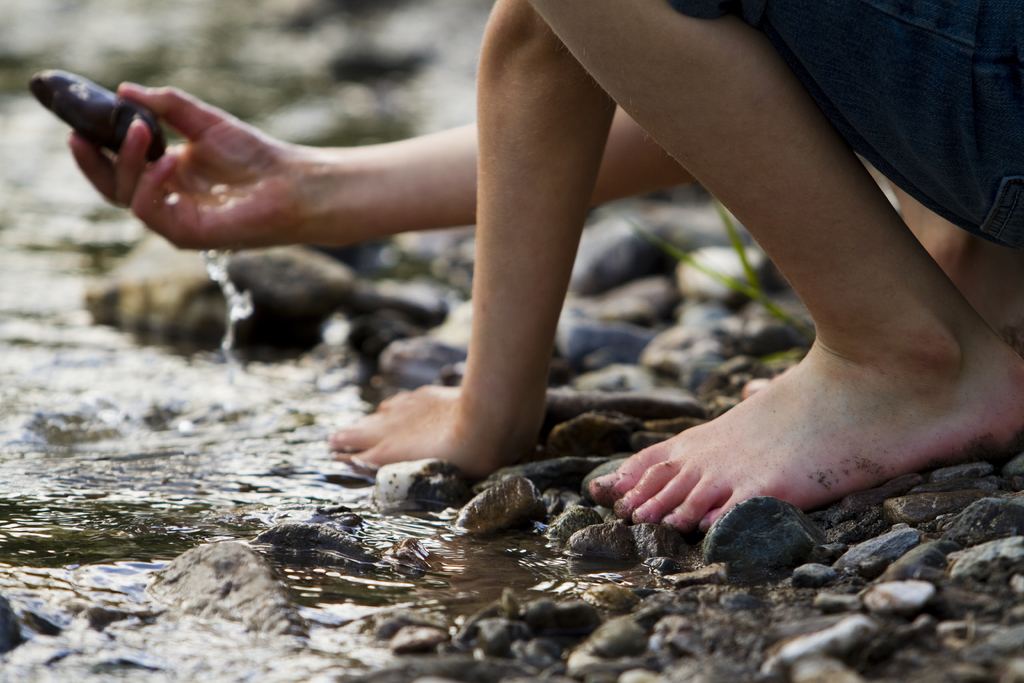Human_hand: (69, 80, 295, 252), (329, 387, 477, 481)
